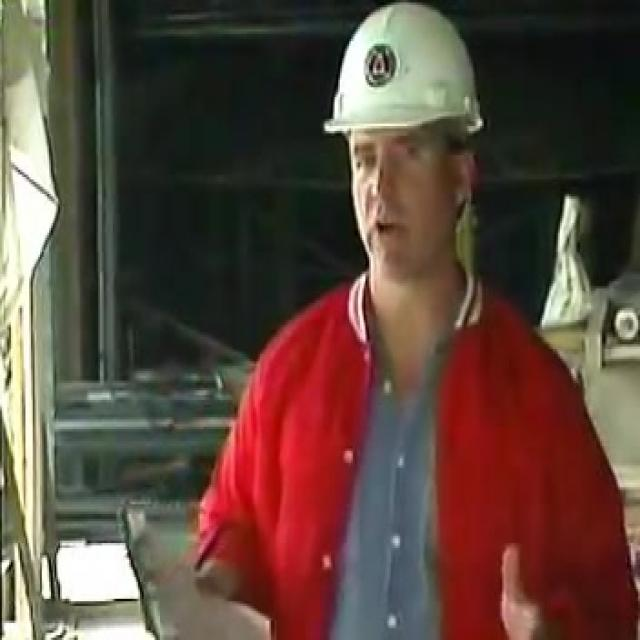Safety-Helmet: (318, 1, 498, 160)
